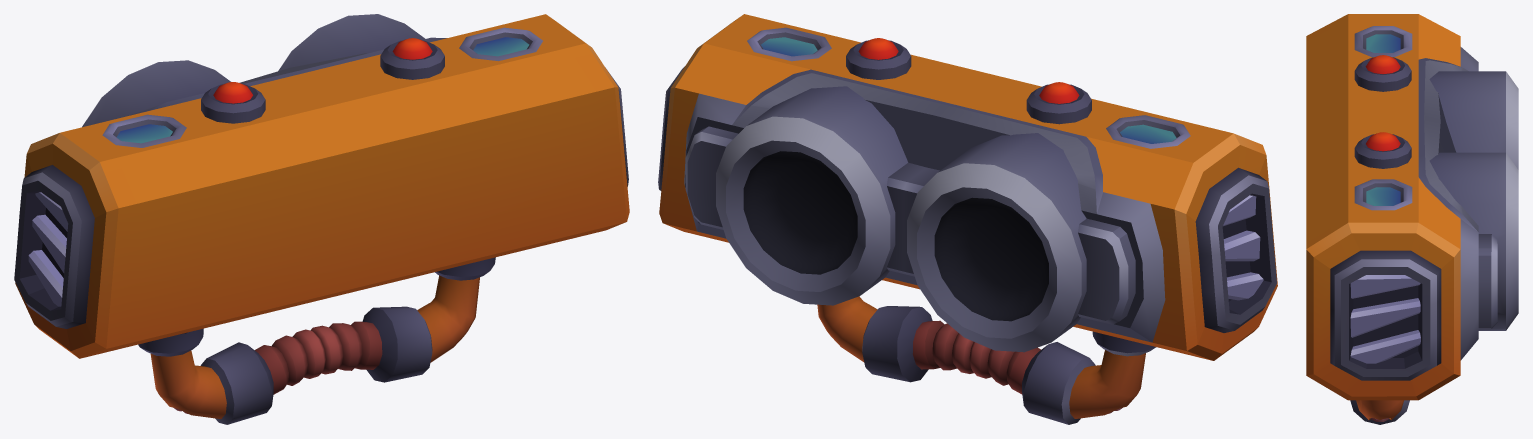
The model's file is SM_Ventilation_02.fbx.
The picture shows the model from 3 angles, left to right: view 1: azimuth 30°, elevation 25°; view 2: azimuth 150°, elevation 25°; view 3: azimuth 270°, elevation 25°; orthographic projection. The views are drawn at different scales.
Visible parts, largest first — view 1: SM_Ventilation_02; view 2: SM_Ventilation_02; view 3: SM_Ventilation_02.
Boxes of the visible parts, <box> form: SM_Ventilation_02: <box>14,14,629,424</box>; SM_Ventilation_02: <box>658,14,1277,424</box>; SM_Ventilation_02: <box>1306,14,1518,424</box>.
Size of the model in its own units: 12.33 by 6.91 by 4.55.
